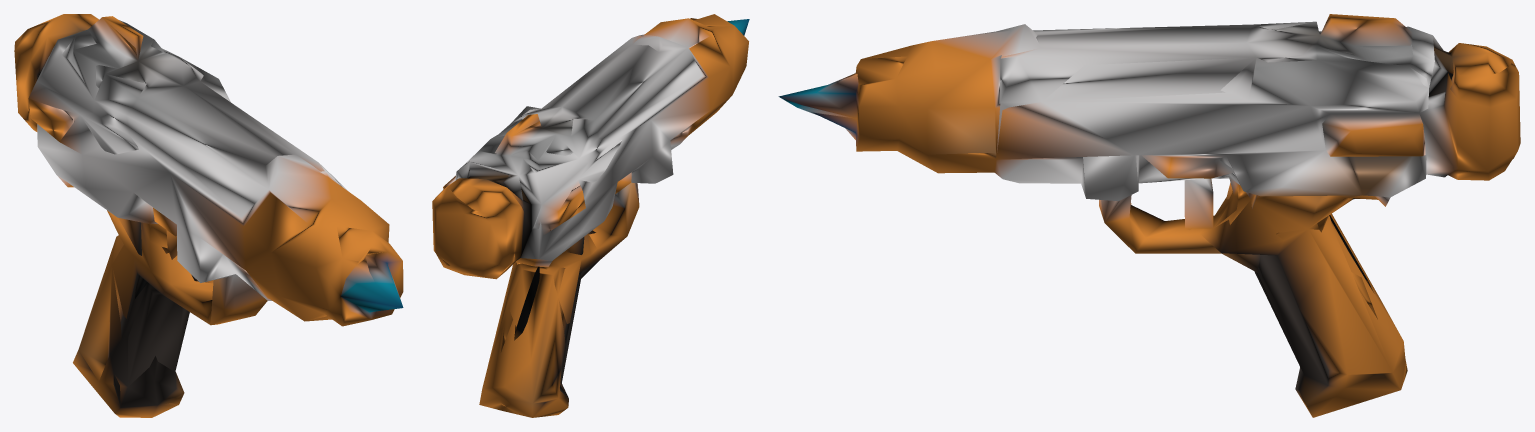
The model's file is gen3d-laser-gun-lod1.glb.
The picture shows the model from 3 angles, left to right: view 1: azimuth 30°, elevation 25°; view 2: azimuth 150°, elevation 25°; view 3: azimuth 270°, elevation 25°; orthographic projection. The views are drawn at different scales.
Visible parts, largest first — view 1: part_0; view 2: part_0; view 3: part_0.
Part boxes in pixels (x1,y1,x2,y2): part_0: (14,14,403,417); part_0: (432,14,749,417); part_0: (778,14,1520,417).
Size of the model in its own units: 0.4045 by 0.9997 by 1.73.
